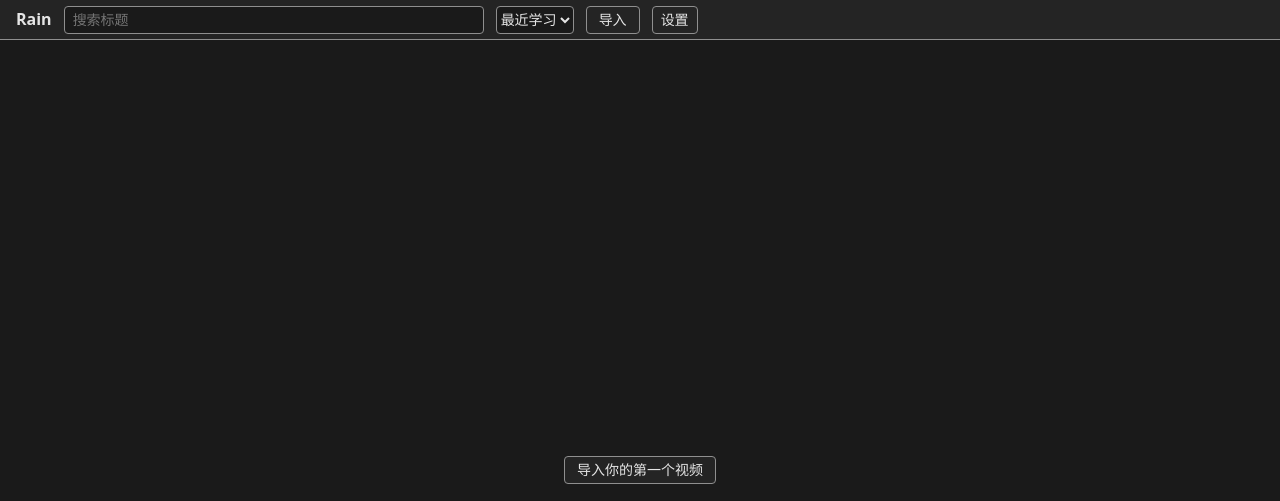
Test: VideoListPage local import › keeps importing and shows thumbnail generation and cleanup failures to the user
Step 1. Click the button "导入" → [613, 20], box [586,6,640,34]
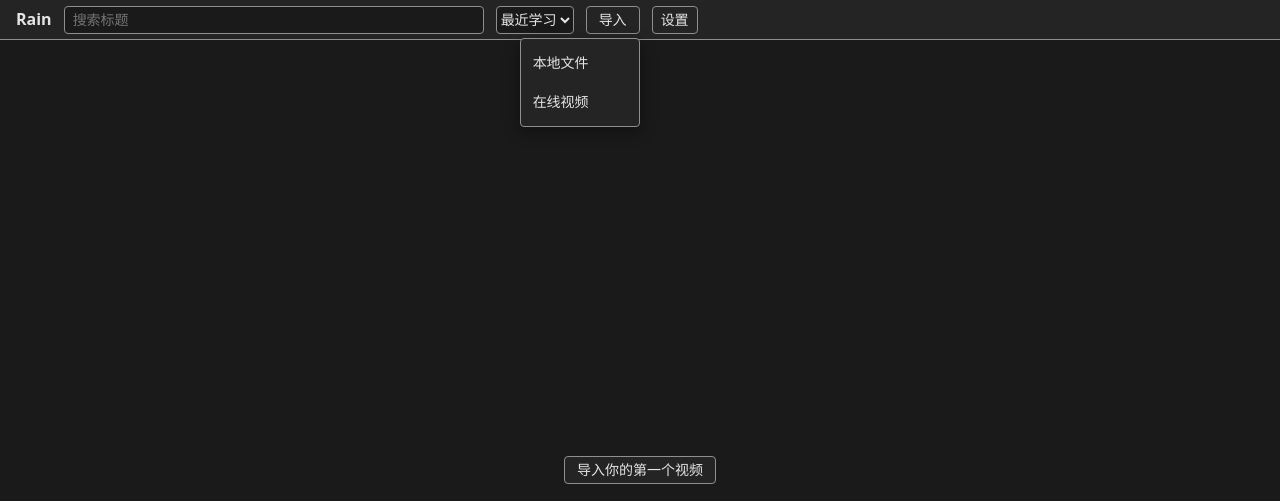
Step 2. Click the button "本地文件" → [580, 62], box [521,42,639,82]
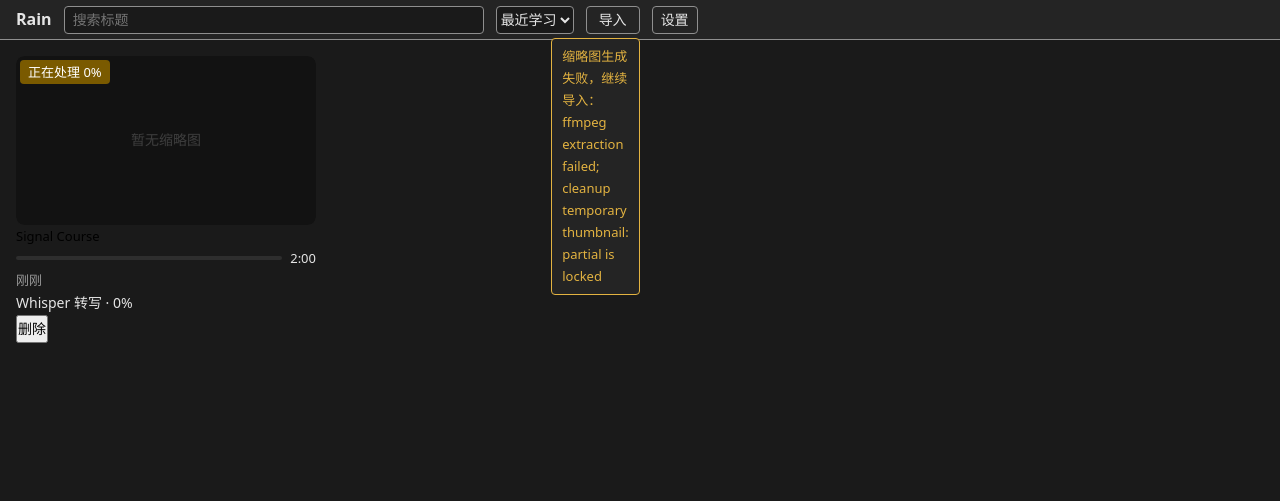
Result: the text "Signal Course" is shown at [16,227,100,245]
Result: the message shows "缩略图生成失败，继续导入" at [562,46,629,285]
Result: the message shows "cleanup temporary thumbnail: partial is locked" at [562,46,629,285]
